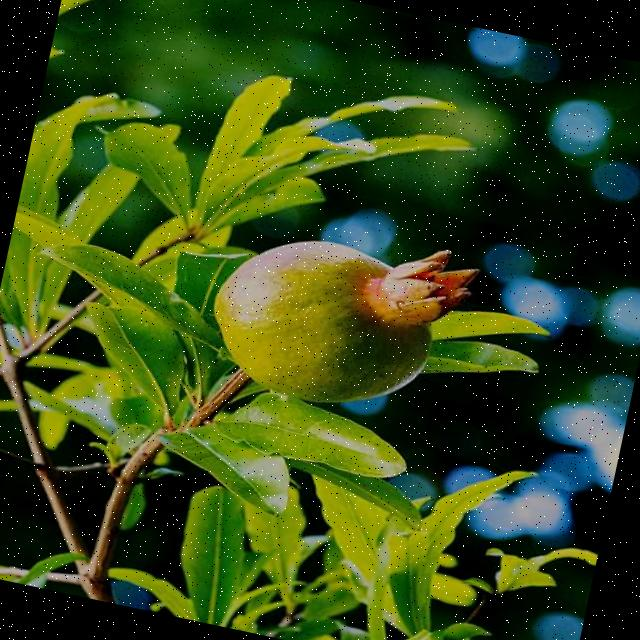Pomegranate: (192, 200, 490, 433)
